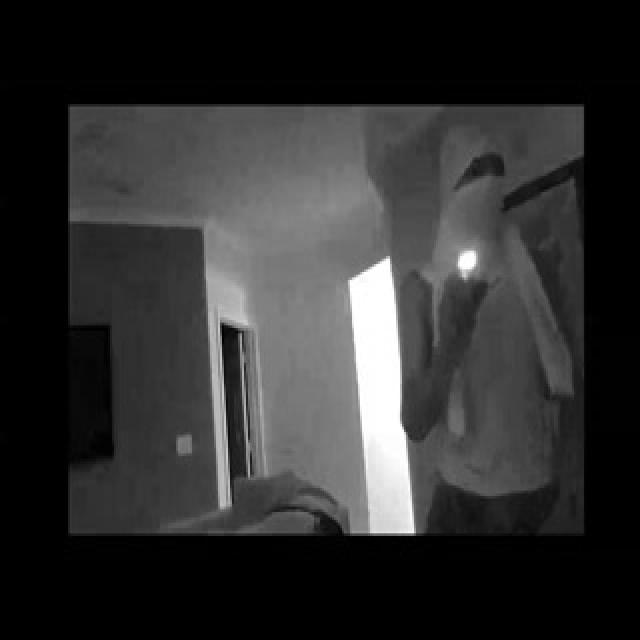thief: (423, 114, 516, 252)
